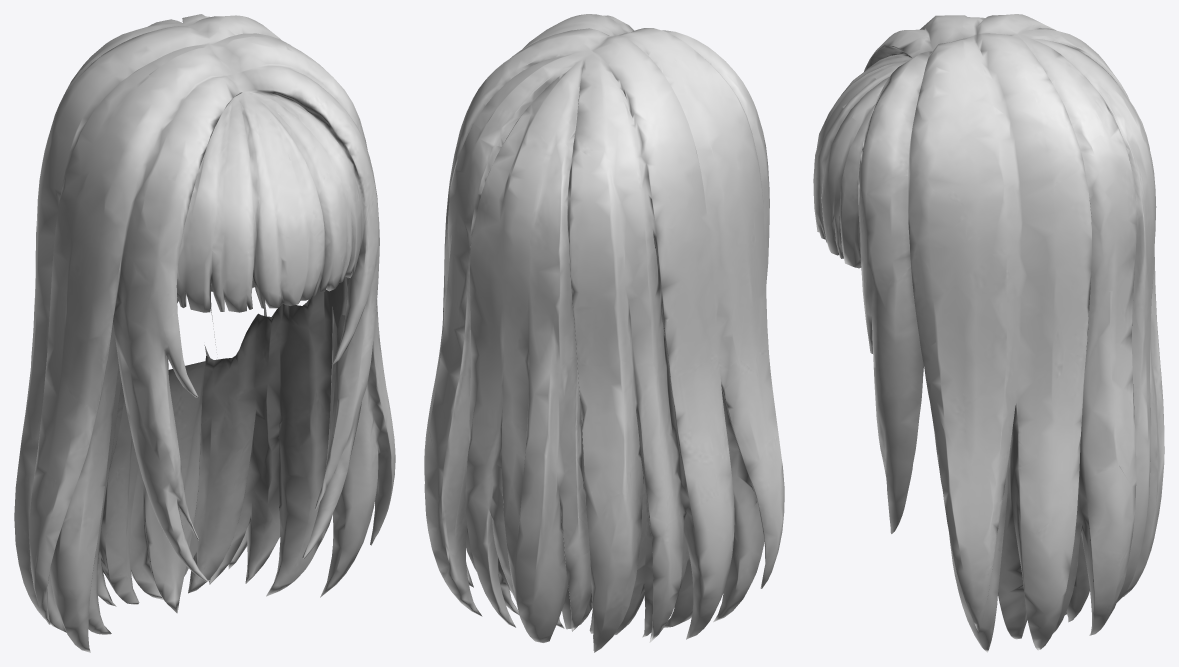
File: hair-longbangs.glb
3 views of the same model, side by side, from view 1: azimuth 30°, elevation 25°; view 2: azimuth 150°, elevation 25°; view 3: azimuth 270°, elevation 25° (orthographic). The views are drawn at different scales.
Visible parts, largest first — view 1: tripo_node_731a7f16-5414-4343-bfa7-5fa1cb6a48e4; view 2: tripo_node_731a7f16-5414-4343-bfa7-5fa1cb6a48e4; view 3: tripo_node_731a7f16-5414-4343-bfa7-5fa1cb6a48e4.
Boxes of the visible parts, x1,y1,x2,y2 form: tripo_node_731a7f16-5414-4343-bfa7-5fa1cb6a48e4: (14, 14, 395, 652); tripo_node_731a7f16-5414-4343-bfa7-5fa1cb6a48e4: (424, 14, 784, 652); tripo_node_731a7f16-5414-4343-bfa7-5fa1cb6a48e4: (813, 14, 1164, 652).
Bounding box in the file's own units: 0.1849 × 0.3 × 0.1649.
Materials: 1 (1 with a texture image).
